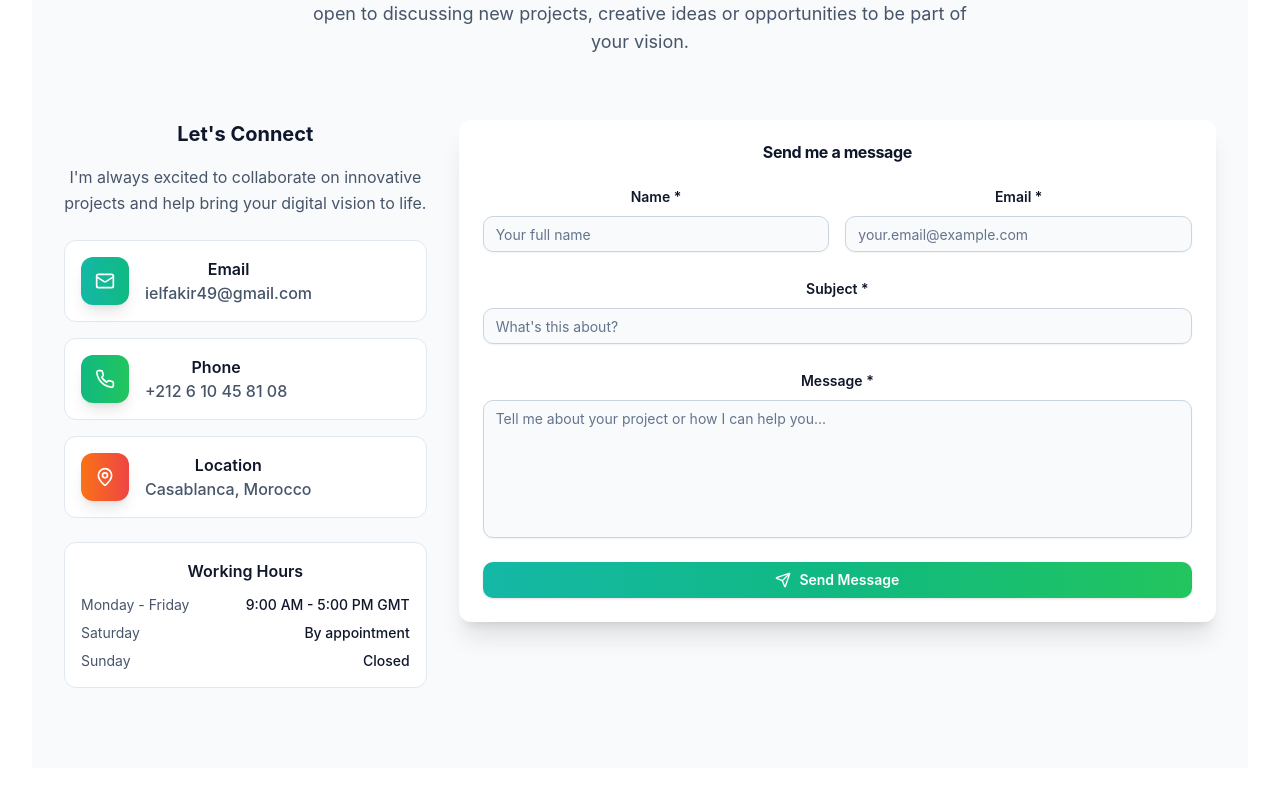
it: Contact Component › shows validation errors for empty required fields
The image size is (1280, 800).
(page scrolled)
Click the button "Send Message" at coordinates (837, 580), box [483,562,1192,598]
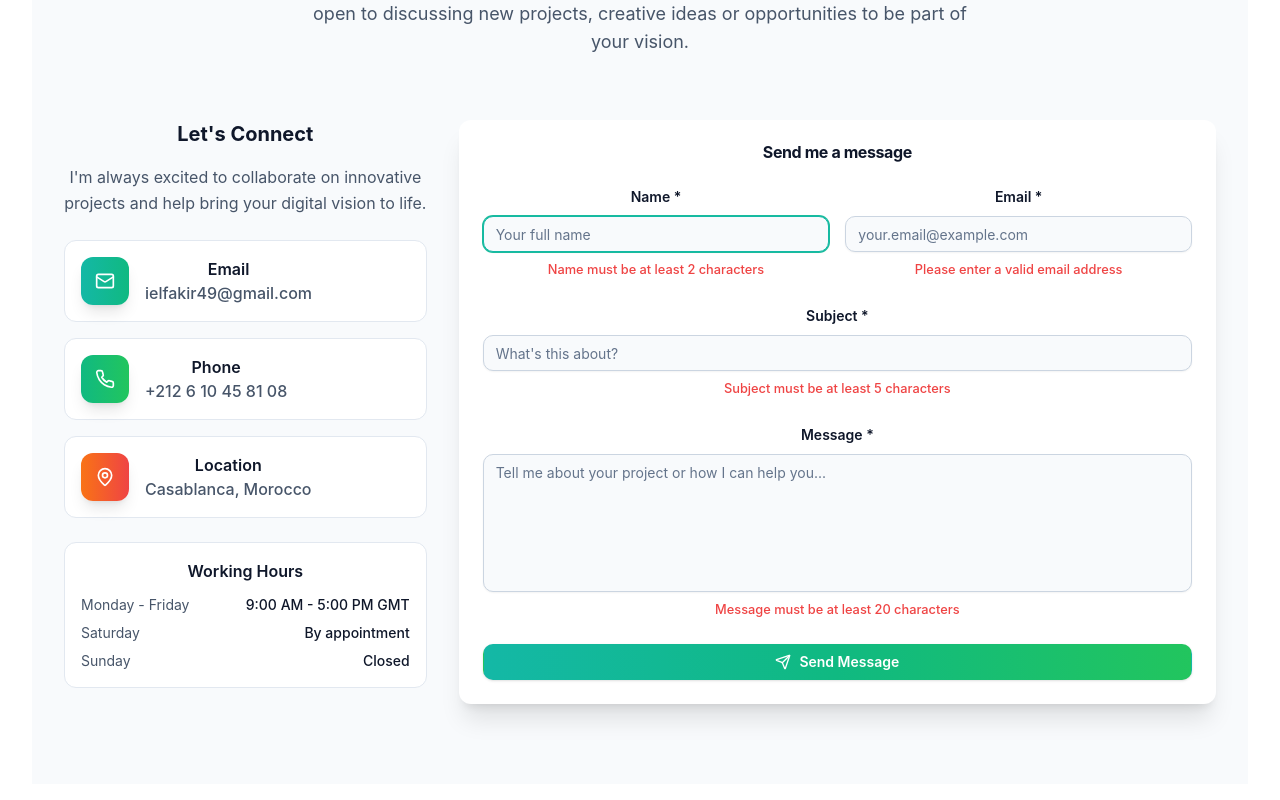
Check: the text "Name must be at least 2 characters" is shown, box [548,262,764,277]
Check: the text "Please enter a valid email address" is shown, box [915,262,1122,277]
